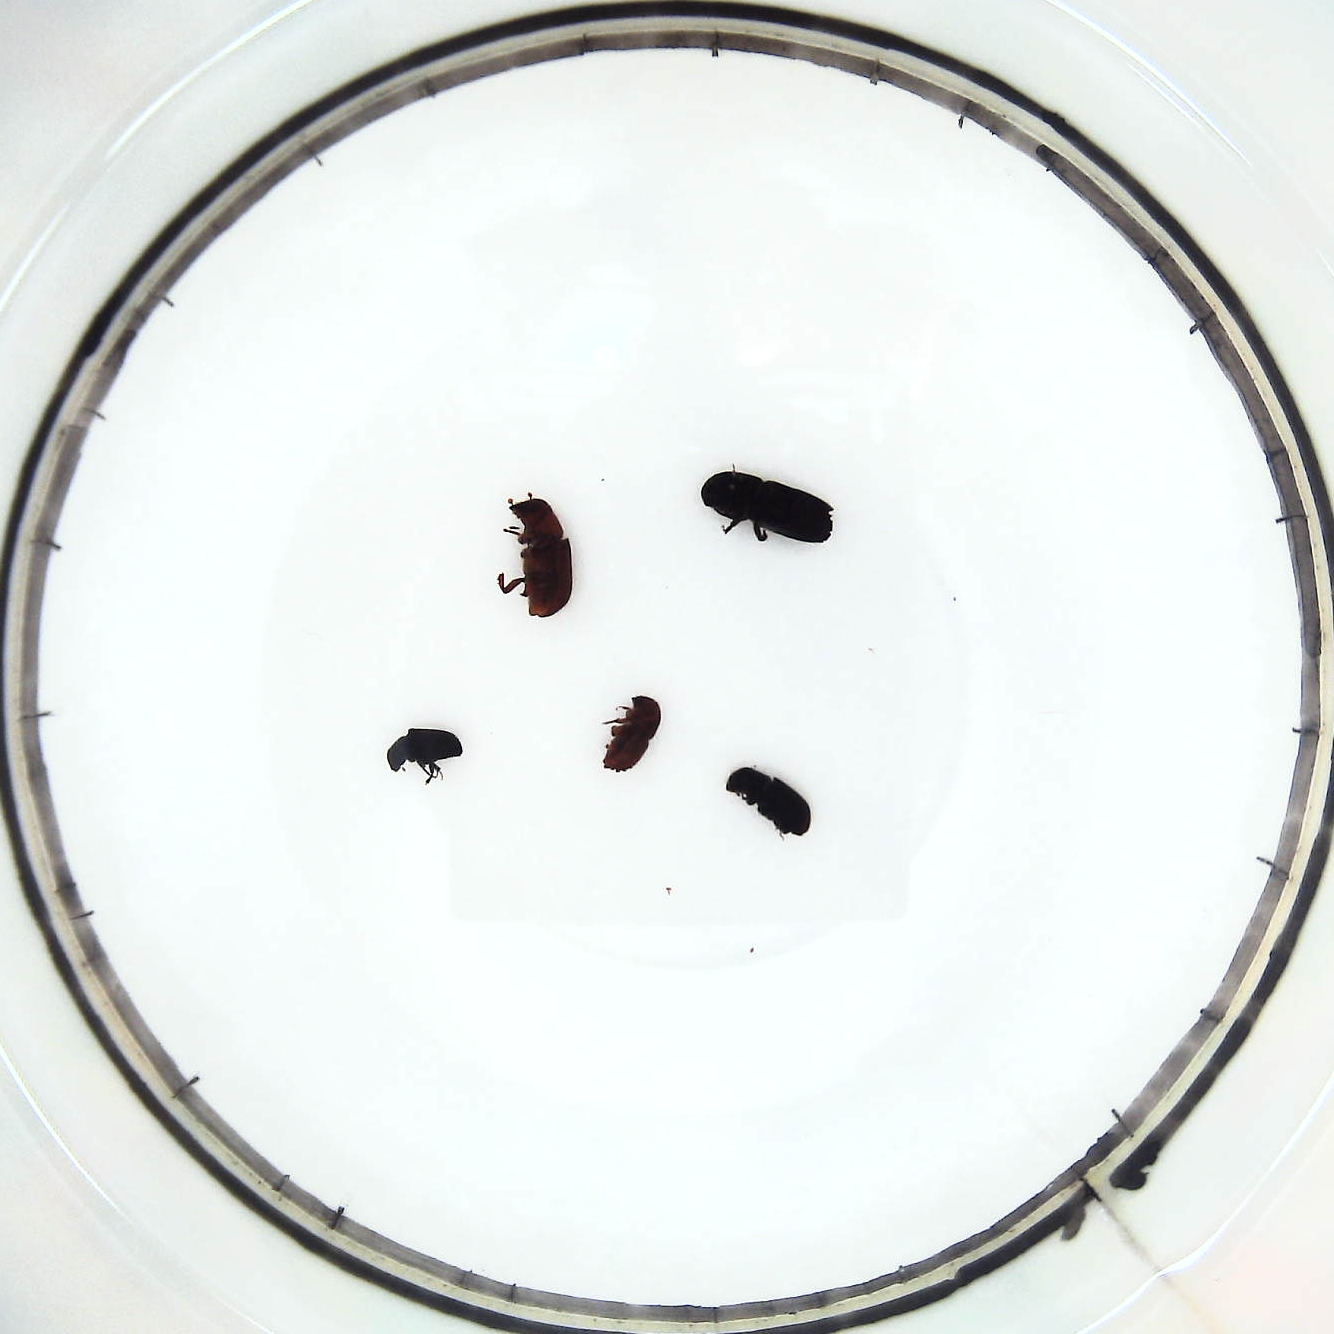Leconte: (491, 494, 579, 623)
armandi: (718, 762, 816, 843)
coleoptera: (696, 469, 842, 552), (382, 723, 469, 792)
linnaeus: (599, 691, 665, 777)
